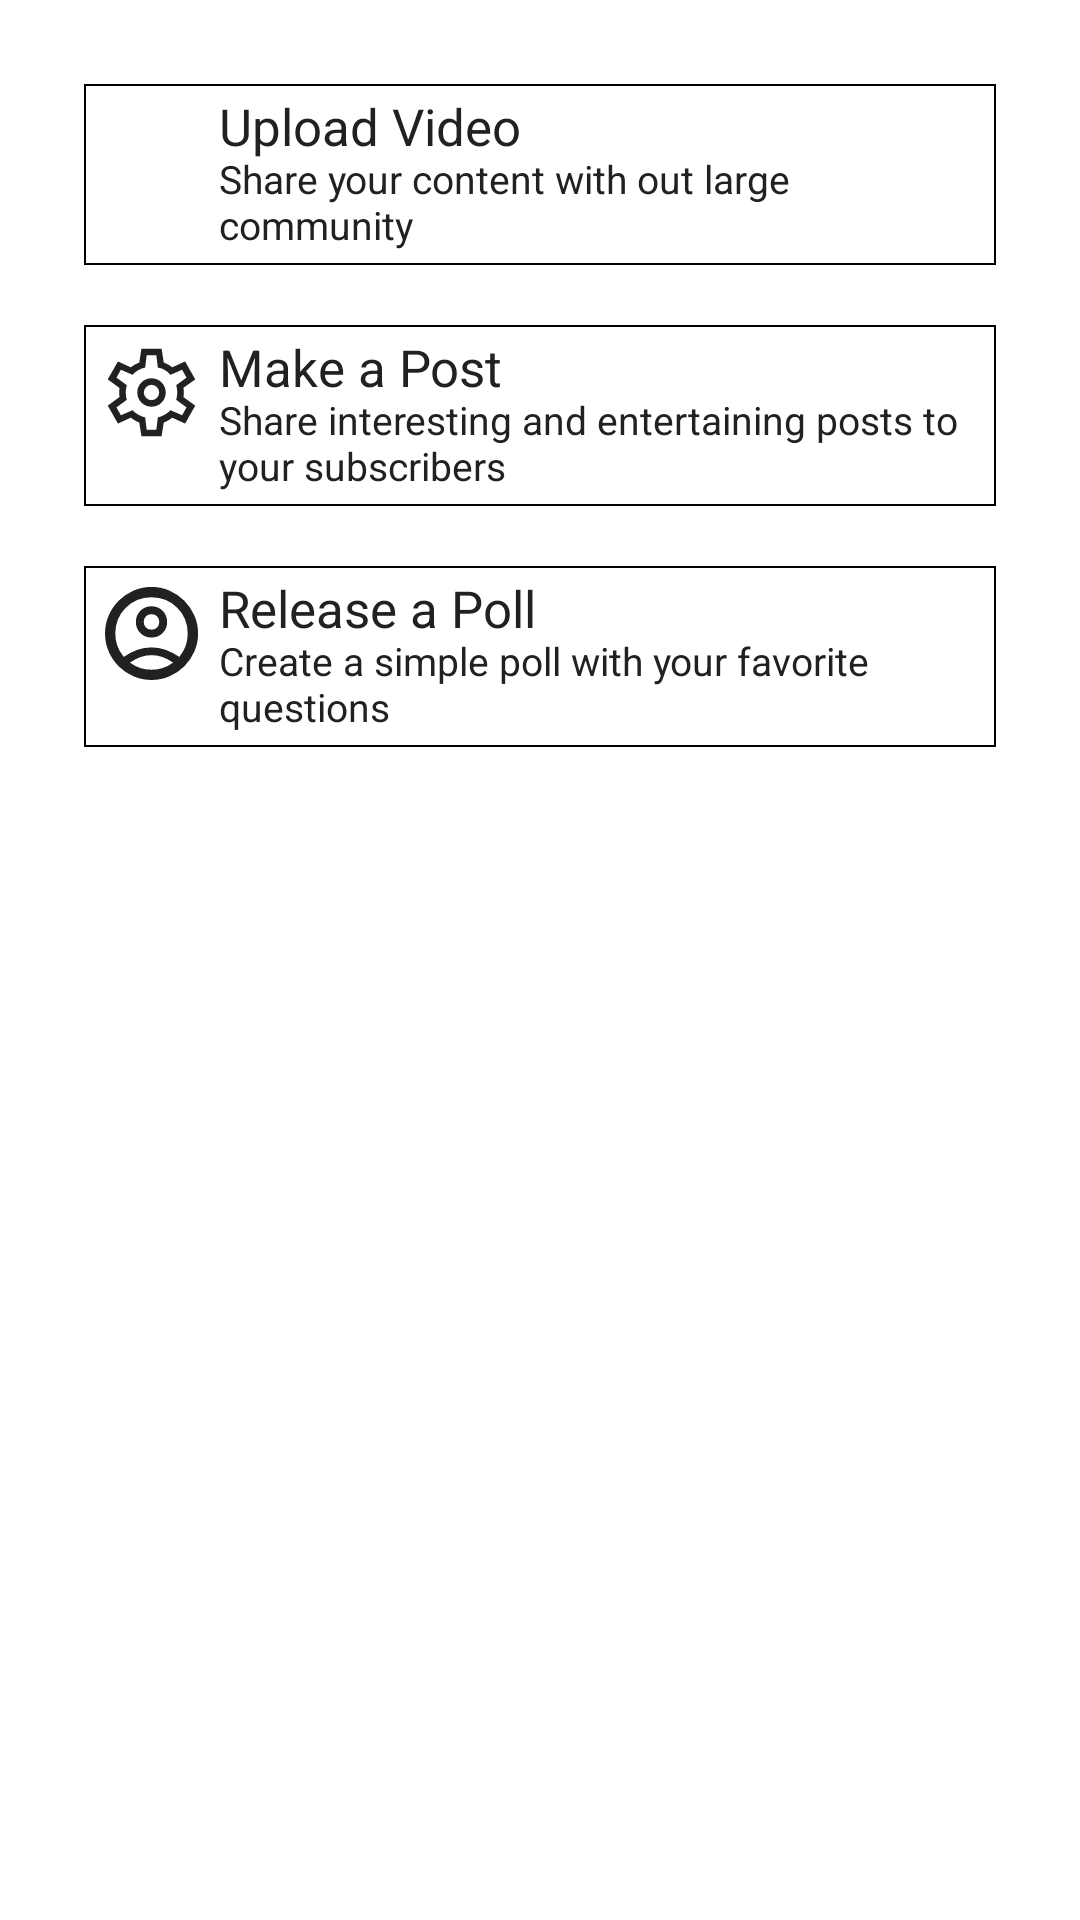

Icon bounding boxes for this 1080*1920 phone screenshot, format rect(x1, y1, x2, y2):
account: rect(105, 587, 198, 680)
settings: rect(108, 348, 195, 437)
